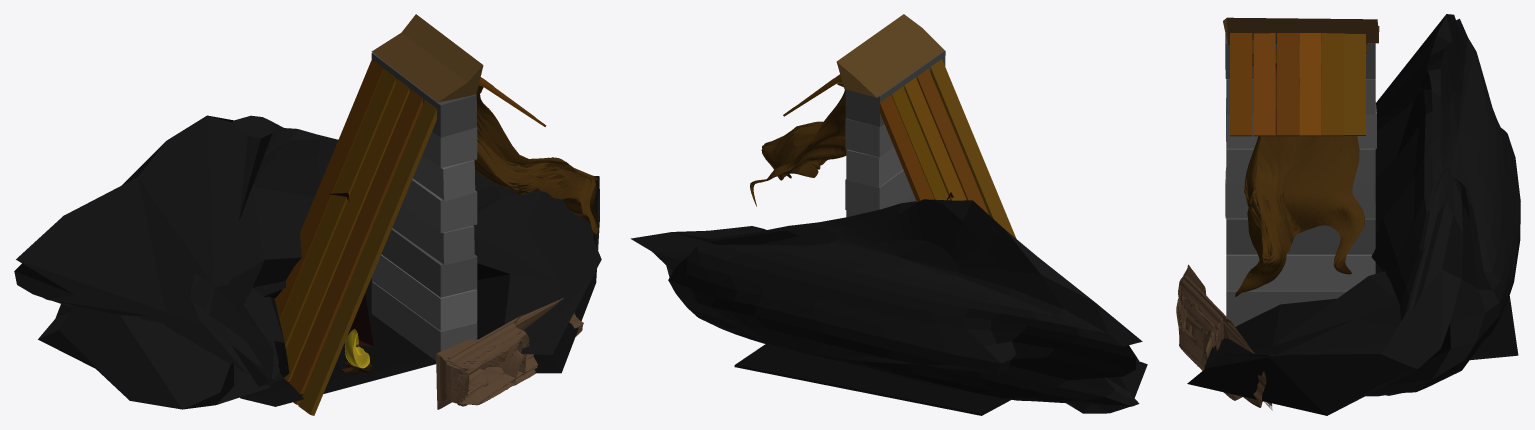
The model's file is home.fbx.
The picture shows the model from 3 angles, left to right: view 1: azimuth 30°, elevation 25°; view 2: azimuth 150°, elevation 25°; view 3: azimuth 270°, elevation 25°; orthographic projection. The views are drawn at different scales.
Parts seen in each view (by area): view 1: Sphere, Cube.023, Cube.015, Cube.005, Cube.014, Cube.024, Cube.013, Cube.012, Cube.001, Cube.002, Cube.016, Cube.017 (+8 smaller); view 2: Sphere, Cube.001, Cube.024, Cube.005, Cube.015, Cube.014, Cube.013, Cube.002, Cube.019, Cube.012, Cube.020, Cube.022 (+1 smaller); view 3: Sphere, Cube.005, Cube.016, Cube.023, Cube.017, Cube.024, Cube.009, Cube.006, Cube.007, Cube.008, Cube.010, Cube.011 (+7 smaller).
Boxes of the visible parts, x1,y1,x2,y2 form: Sphere: (14,115,601,409); Cube.023: (436,298,583,409); Cube.015: (298,100,436,415); Cube.005: (474,84,598,234); Cube.014: (289,89,422,404); Cube.024: (371,14,483,102); Cube.013: (284,79,409,381); Cube.012: (280,69,396,348); Cube.001: (240,278,436,406); Cube.002: (274,59,383,320); Cube.016: (371,254,477,330); Cube.017: (381,228,477,297); Sphere: (630,199,1147,413); Cube.001: (734,344,1011,415); Cube.024: (836,14,944,97); Cube.005: (750,80,846,206); Cube.015: (930,59,1016,238); Cube.014: (917,68,988,214); Cube.013: (904,77,966,200); Cube.002: (880,95,934,201); Cube.019: (845,169,913,213); Cube.012: (891,86,949,200); Cube.020: (846,147,902,187); Cube.022: (845,50,945,126); Sphere: (1187,14,1520,415); Cube.005: (1235,40,1368,296); Cube.016: (1226,254,1375,290); Cube.023: (1176,264,1272,410); Cube.017: (1226,203,1375,254); Cube.024: (1223,17,1379,44); Cube.009: (1299,33,1321,136); Cube.006: (1230,33,1252,136); Cube.007: (1253,33,1275,136); Cube.008: (1277,33,1298,136); Cube.010: (1322,33,1343,136); Cube.011: (1344,33,1365,135).
Size of the model in its own units: 6399 by 3537 by 3120.
